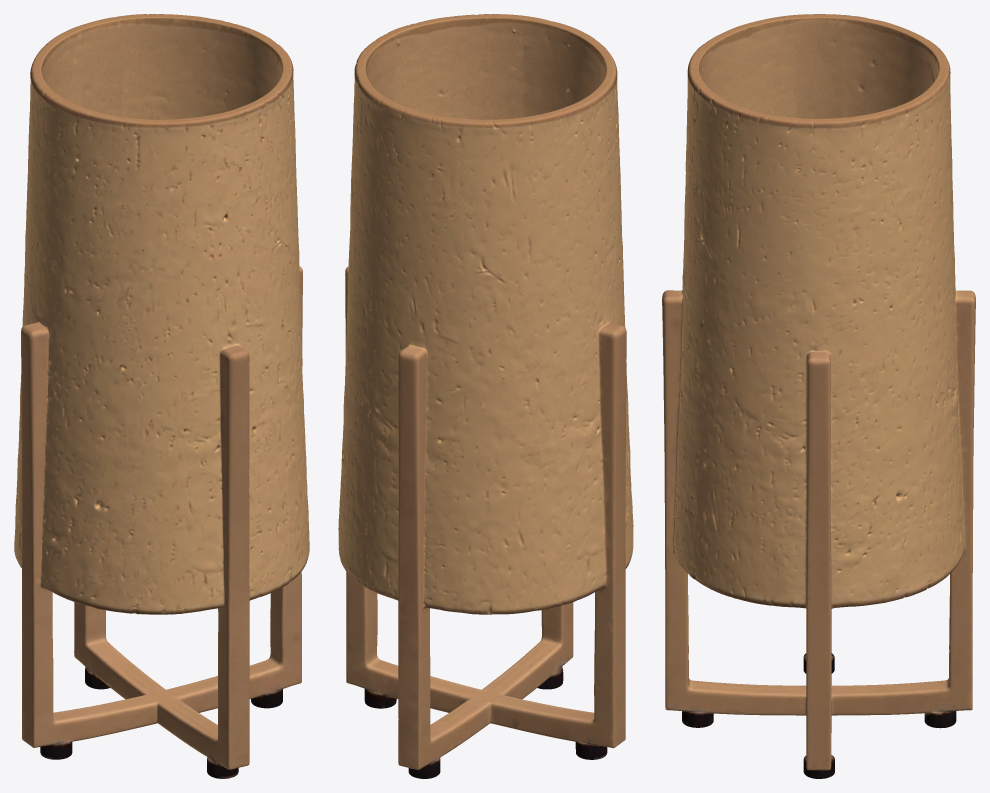
The model's file is amazon-basics-minar-white-iron-frame-table-lamp-light.glb.
3 views of the same model, side by side, from view 1: azimuth 30°, elevation 25°; view 2: azimuth 150°, elevation 25°; view 3: azimuth 270°, elevation 25° (orthographic).
Visible parts, largest first — view 1: mesh_node; view 2: mesh_node; view 3: mesh_node.
Part boxes in pixels (x1,y1,x2,y2): mesh_node: (14,14,309,778); mesh_node: (338,14,633,778); mesh_node: (662,14,975,778).
Size of the model in its own units: 0.8265 by 1.9 by 0.8271.
1 material, 1 textured.
